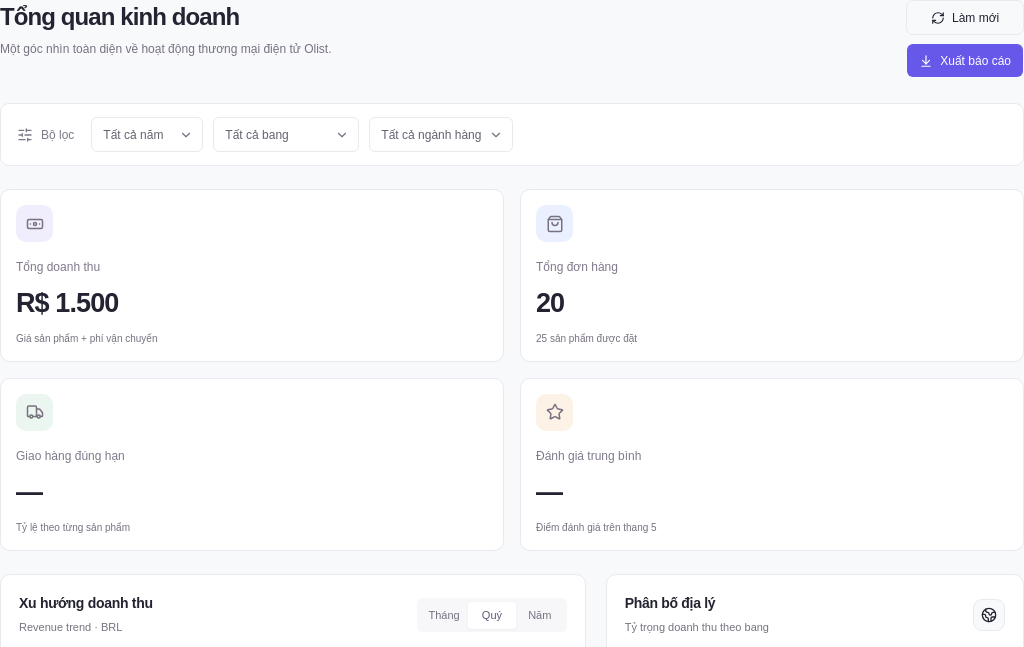
Scenario: Overview › opens the complete geographic data table
Click the button named "Xem chi tiết các bang".
click(989, 615)  # box [973, 599, 1005, 631]
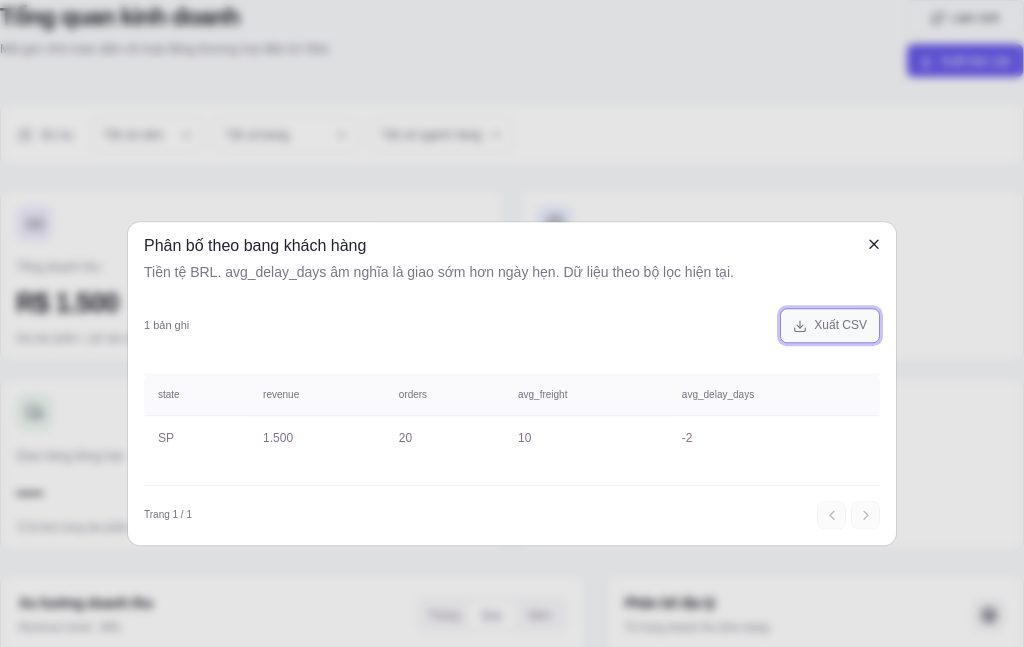
expect the column heading "avg_delay_days" is shown: met, box [668, 375, 880, 416]
expect the text "-2" is shown: met, box [668, 416, 880, 462]
